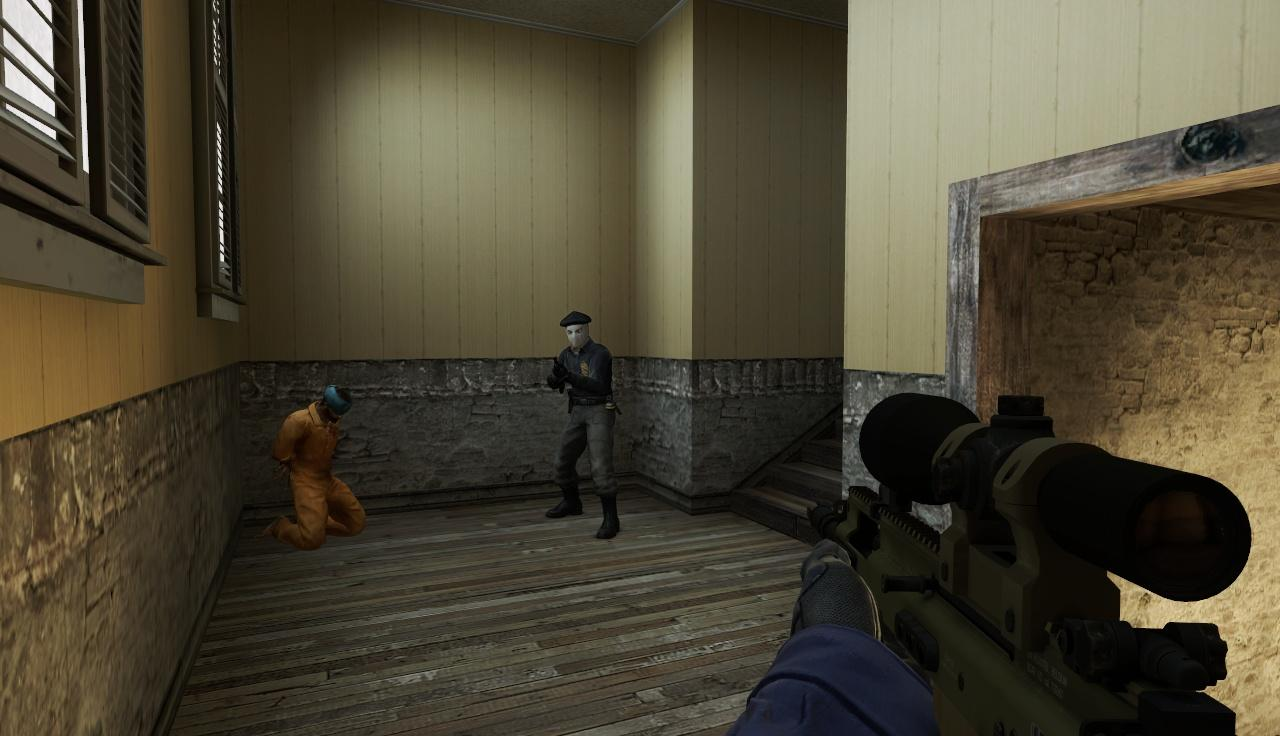sniper: (794, 384, 1280, 736)
tt: (552, 311, 618, 539)
tthead: (563, 313, 590, 351)
